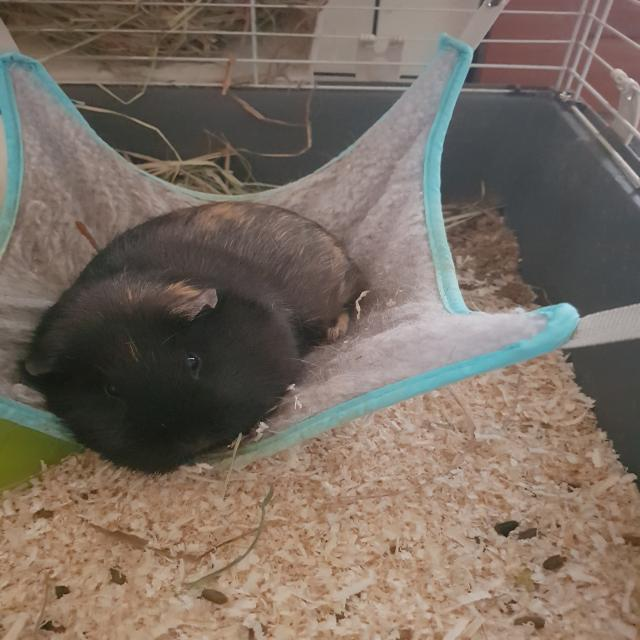guinea pig: (19, 197, 367, 476)
